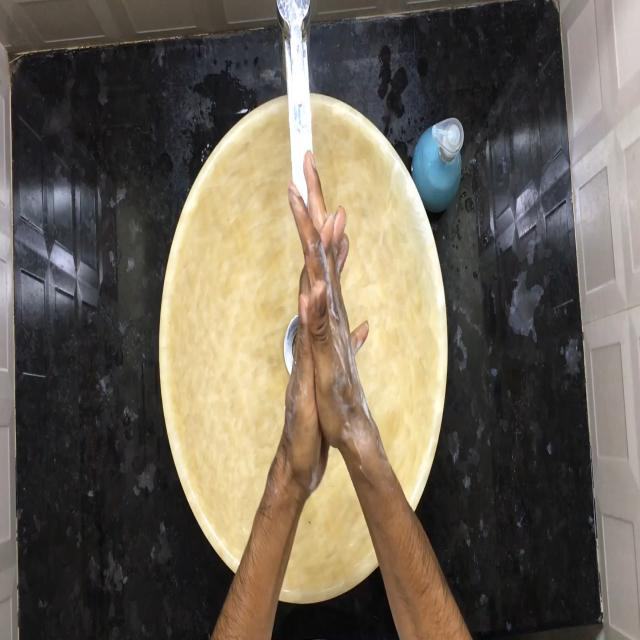step_3: (272, 138, 373, 474)
